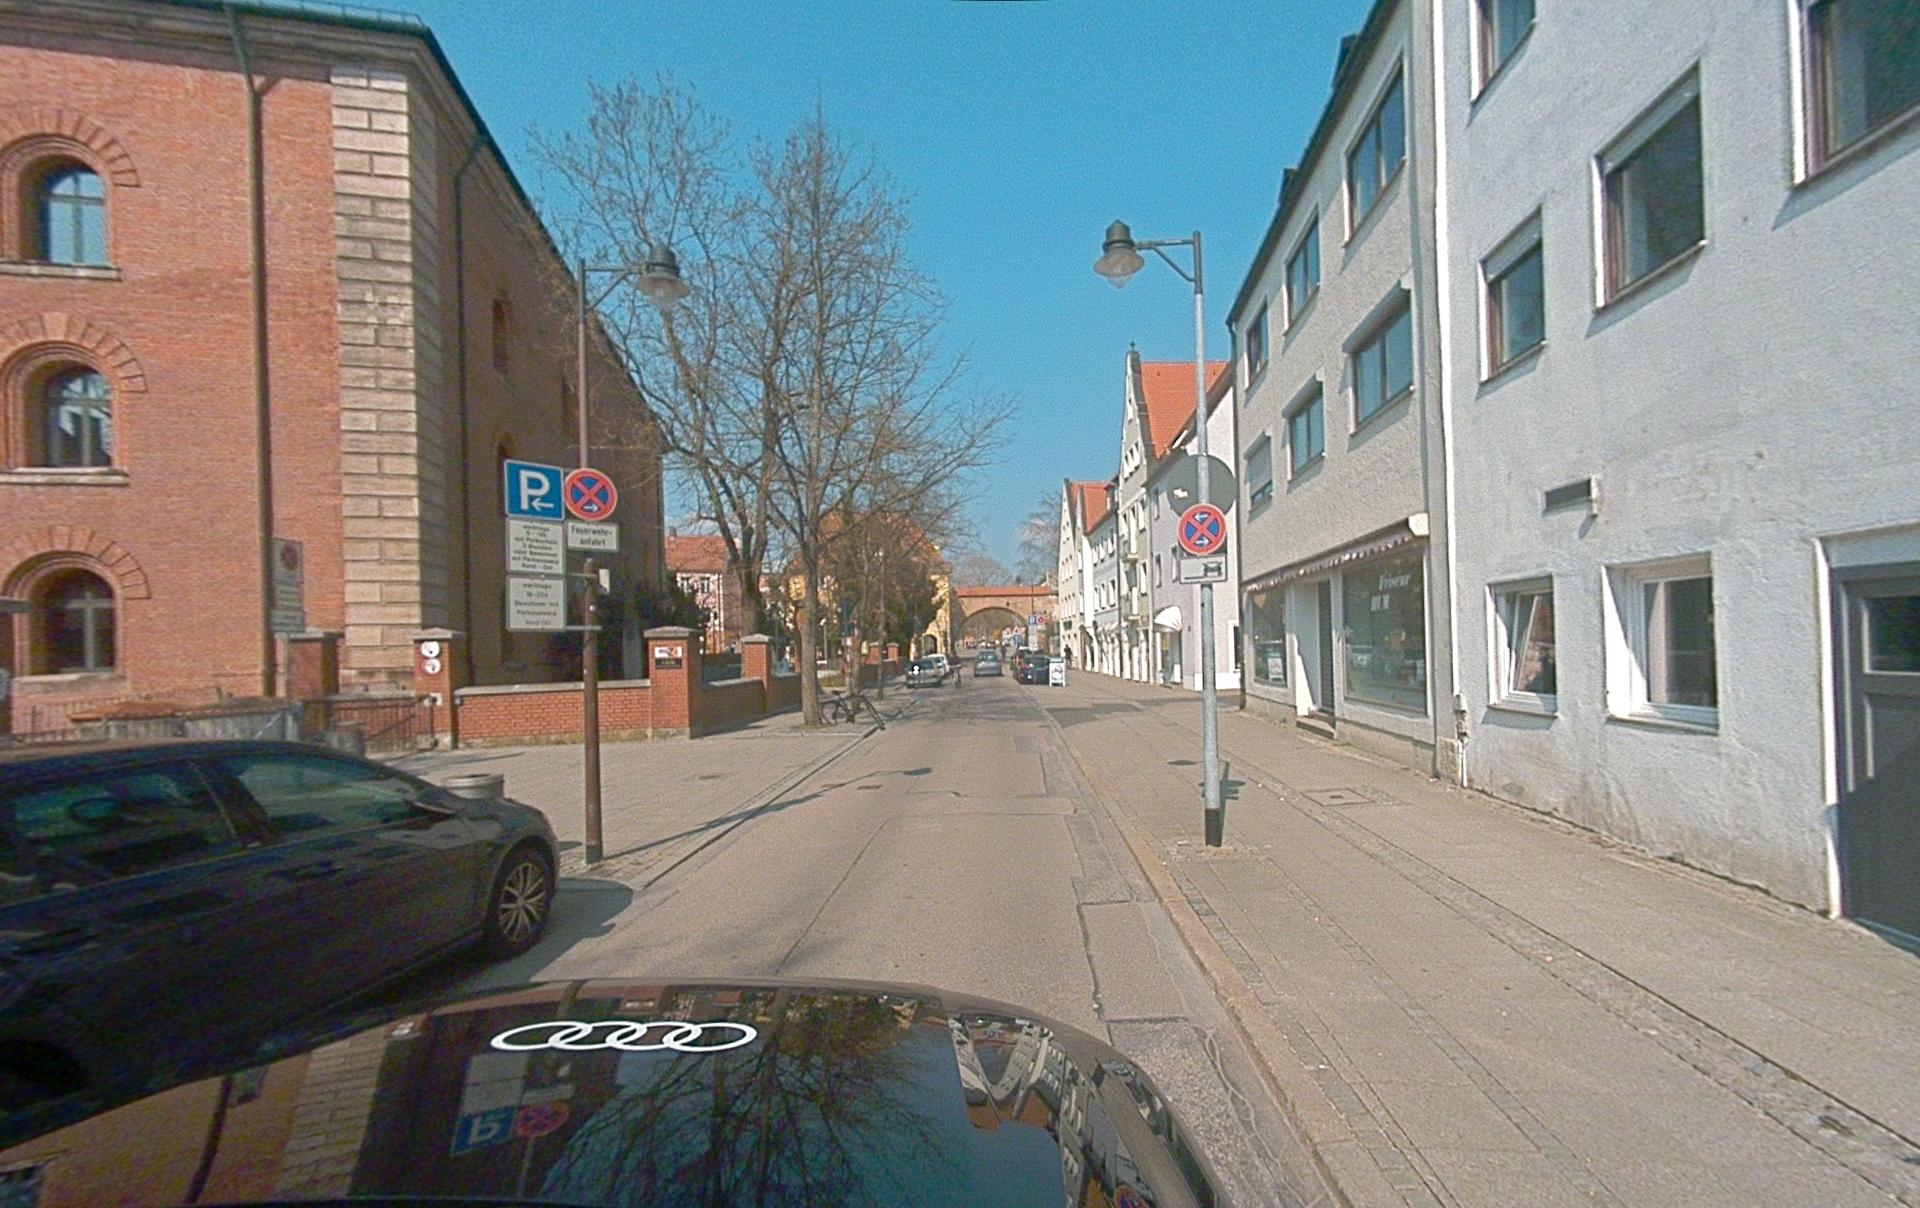car: (0, 976, 1226, 1207), (1, 738, 559, 1138), (906, 660, 943, 688), (1016, 653, 1049, 683), (922, 653, 953, 679), (974, 651, 1002, 676), (1048, 655, 1067, 688)
traffic sign: (504, 459, 565, 522)
